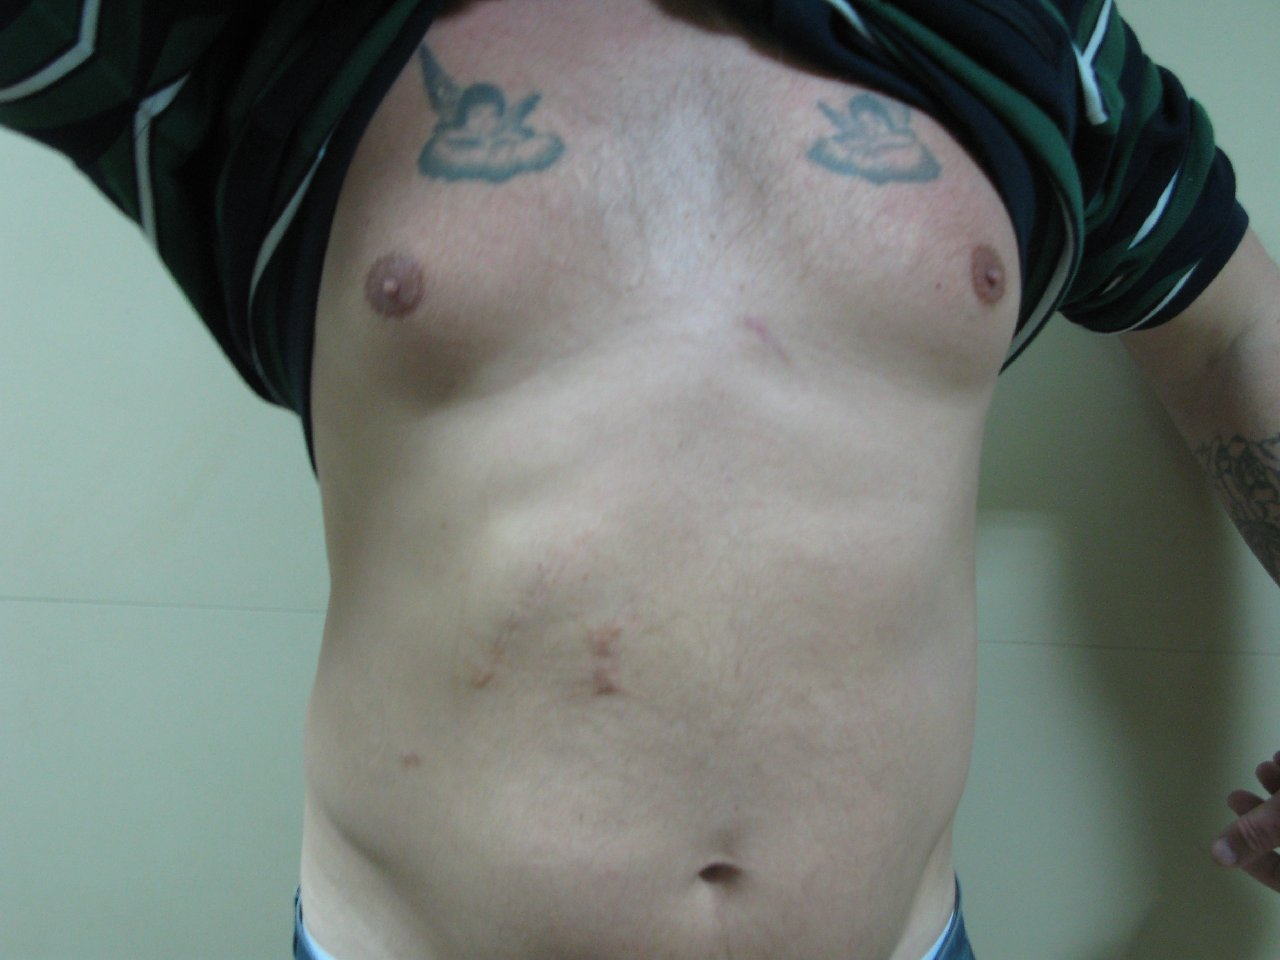tatu1_angel: (390, 26, 594, 184), (788, 71, 981, 194)
